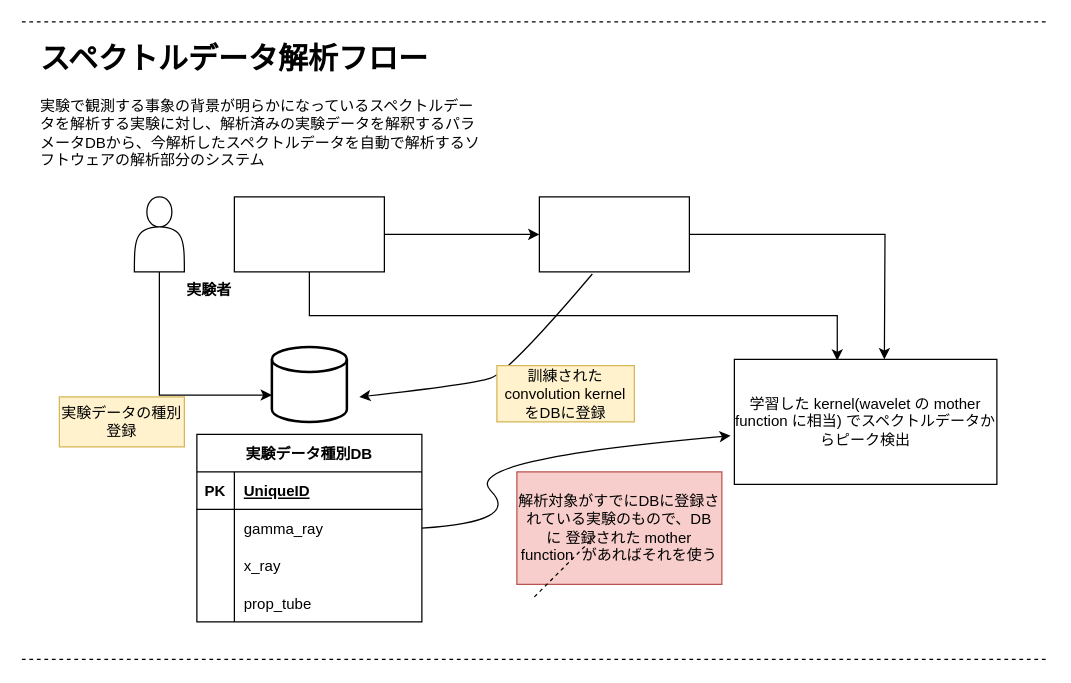
Some shapes in this 1071 by 683 pixel diagram are drawn without their labels. The centre of each missing label's shape, as x and y in pixels:
ピーク検知する convolution kernel 学習: point (613, 234)
実験から得たスペクトルデータ群: point (308, 234)
